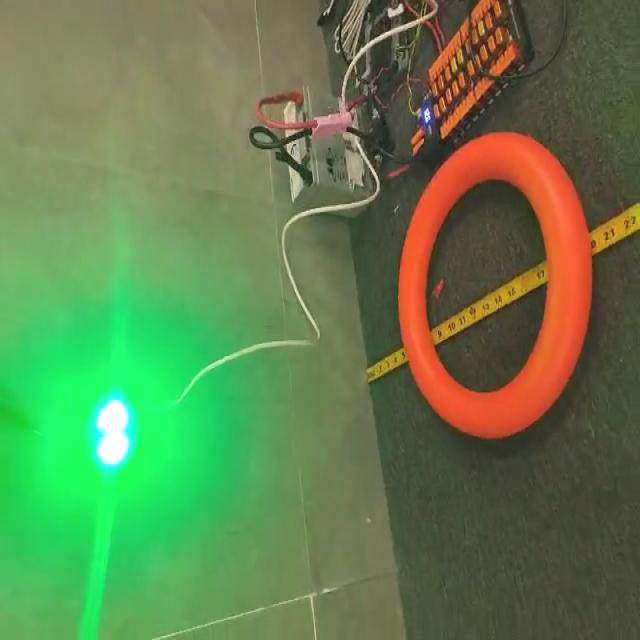note: (394, 132, 596, 442)
